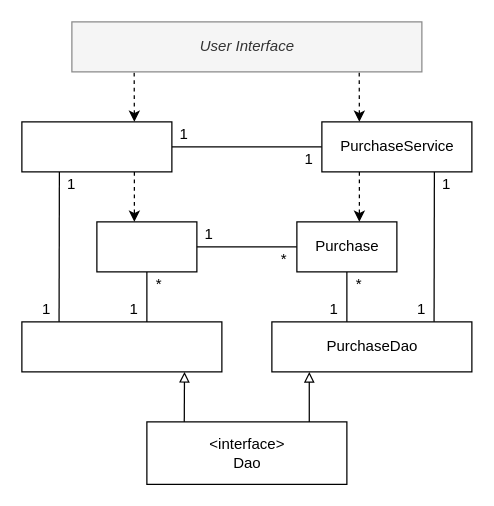
The diagram is 494 pixels wide and 506 high, and some of its shapes have lost their labels. Here are the shapes that lost their labels. From the top down, the centre of each, then its label:
At [96,146]: "ReceiptService".
At [146,246]: "Receipt".
At [121,346]: "ReceiptDao".
